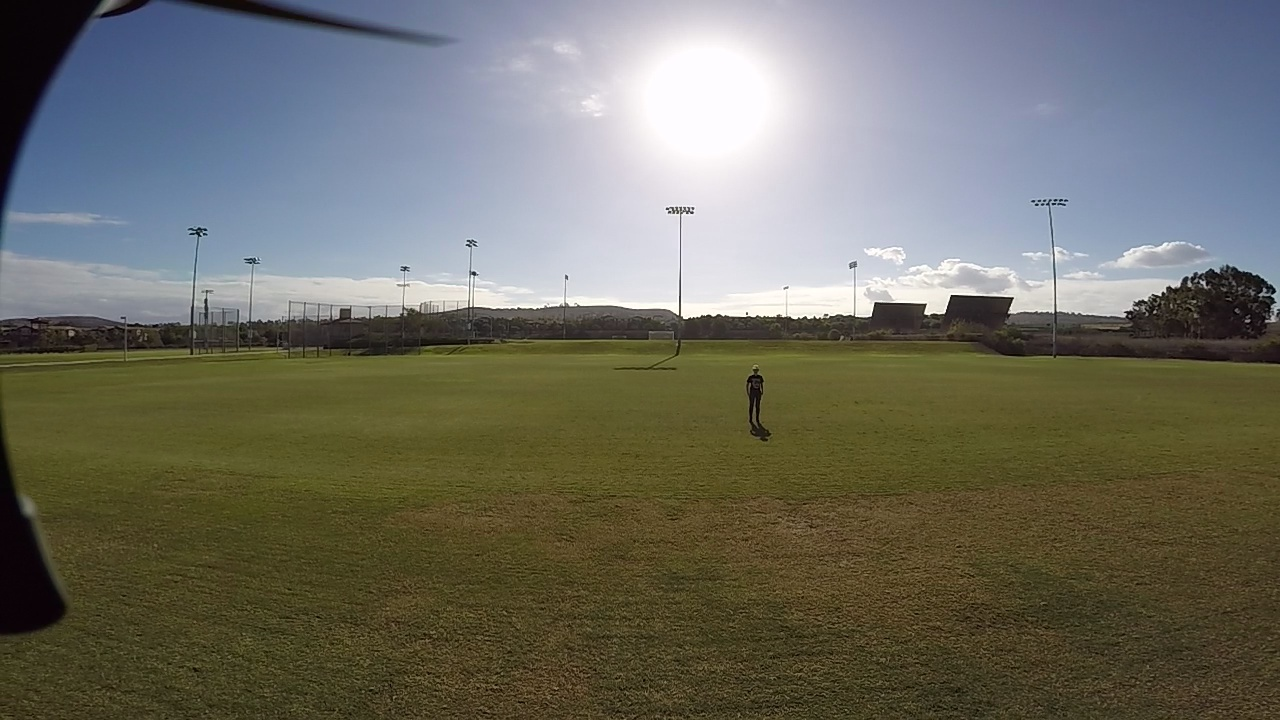person: (741, 359, 765, 434)
